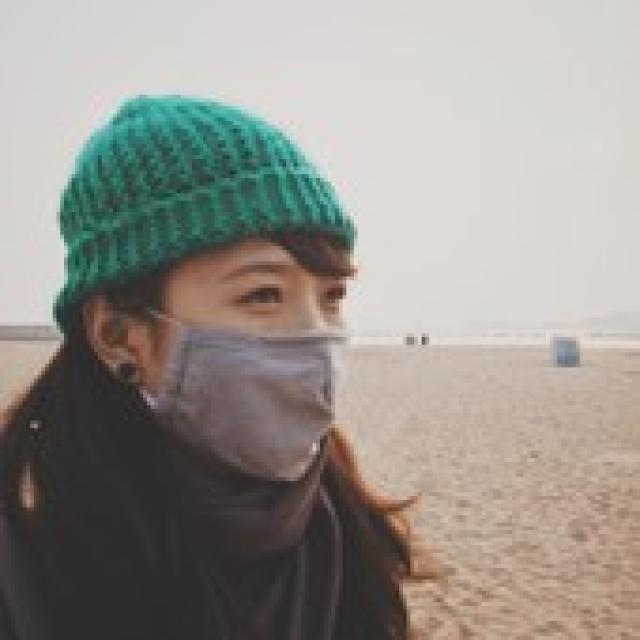mask: (154, 248, 350, 479)
